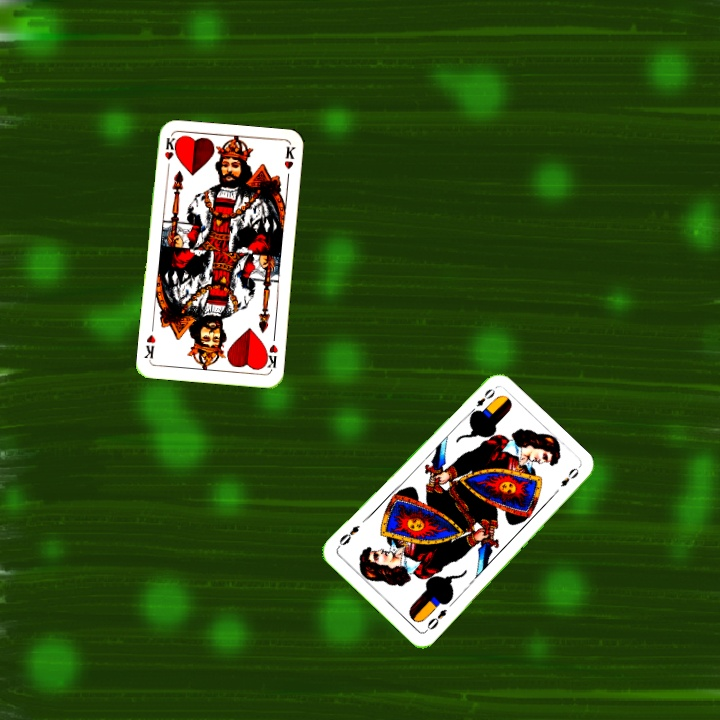EO: (421, 605, 450, 635), (472, 385, 498, 409)
HK: (260, 332, 281, 372), (160, 133, 178, 174)
